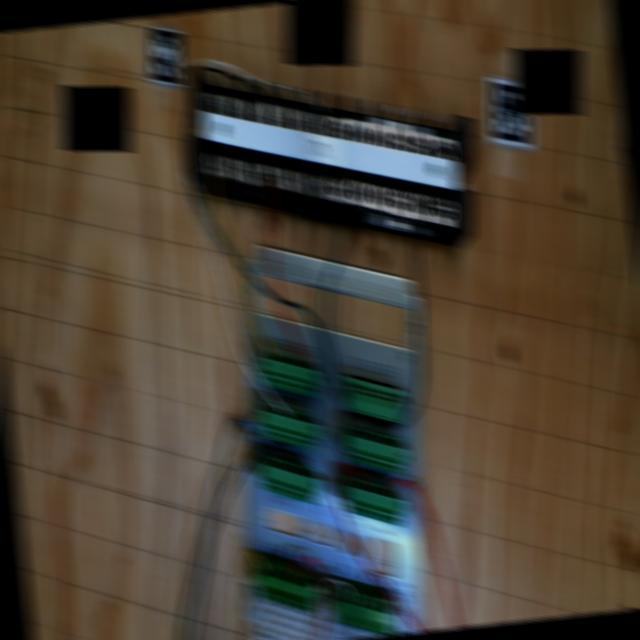Phillips_Block: (166, 59, 496, 234)
Terminal_1: (321, 579, 403, 637), (246, 556, 326, 613)
Terminal_2: (334, 473, 412, 527), (335, 422, 412, 474), (250, 451, 325, 504), (252, 348, 326, 398), (252, 400, 325, 449)
